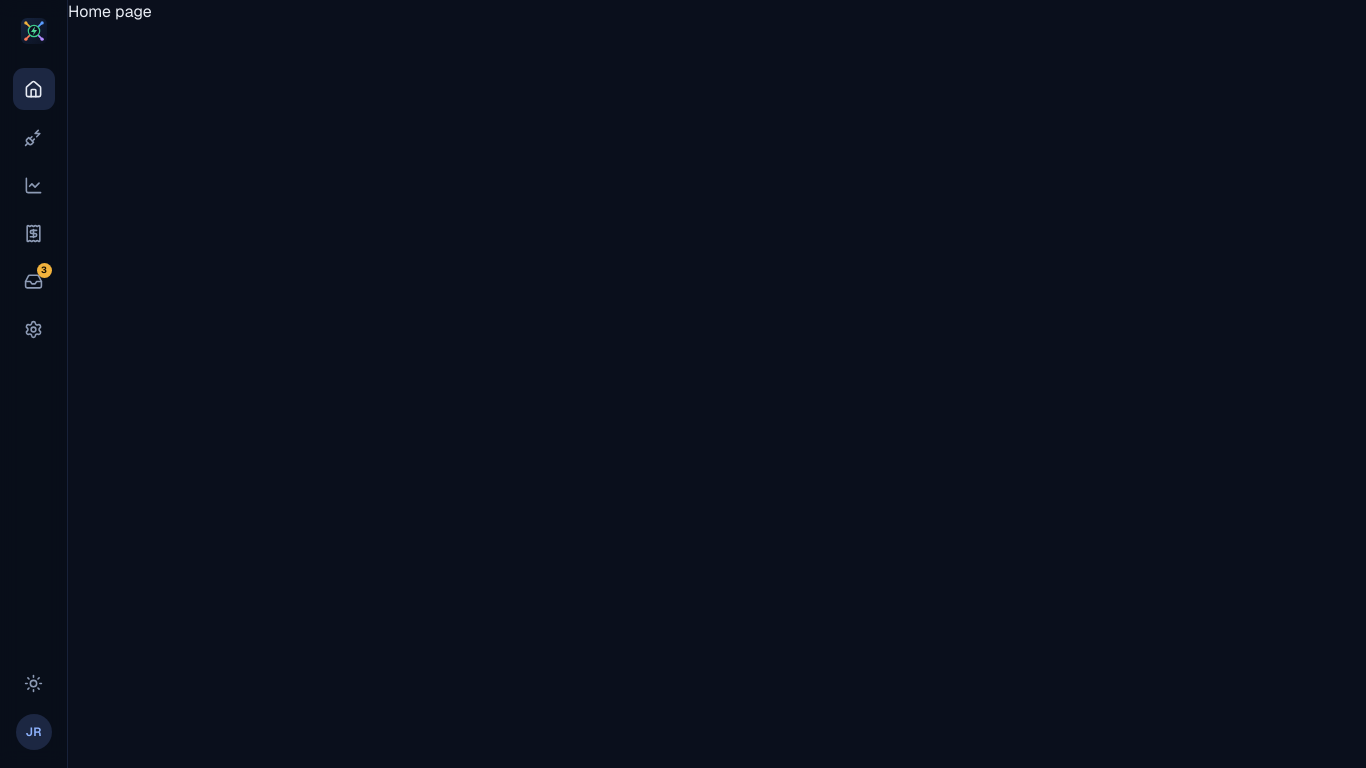
Test: avatar menu › edits the name in Profile
Step 1. Click the button with aria-label "Account: Jamie Reyes, Manager" → {"x": 34, "y": 732}, box 16,714 -> 52,750
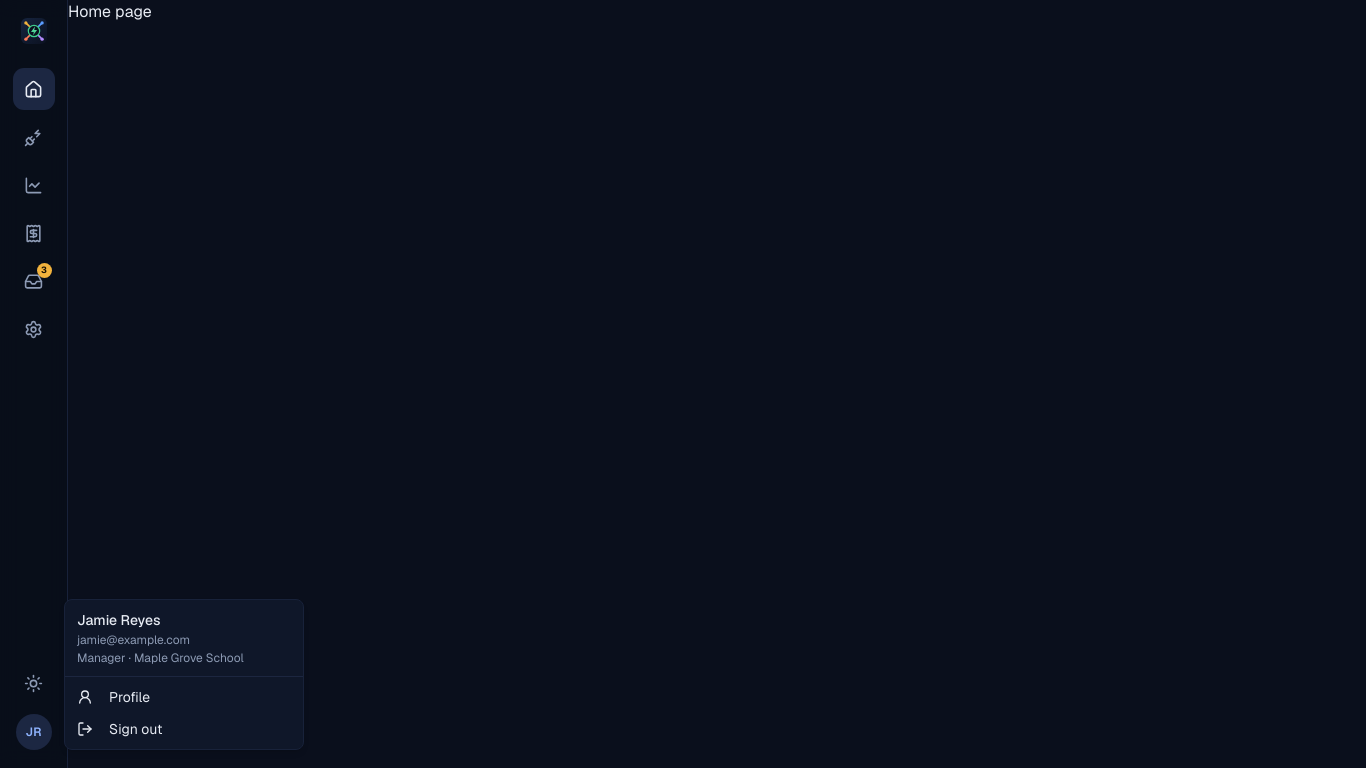
Step 2. Click the menu item "Profile" → {"x": 114, "y": 697}, box 77,688 -> 150,706
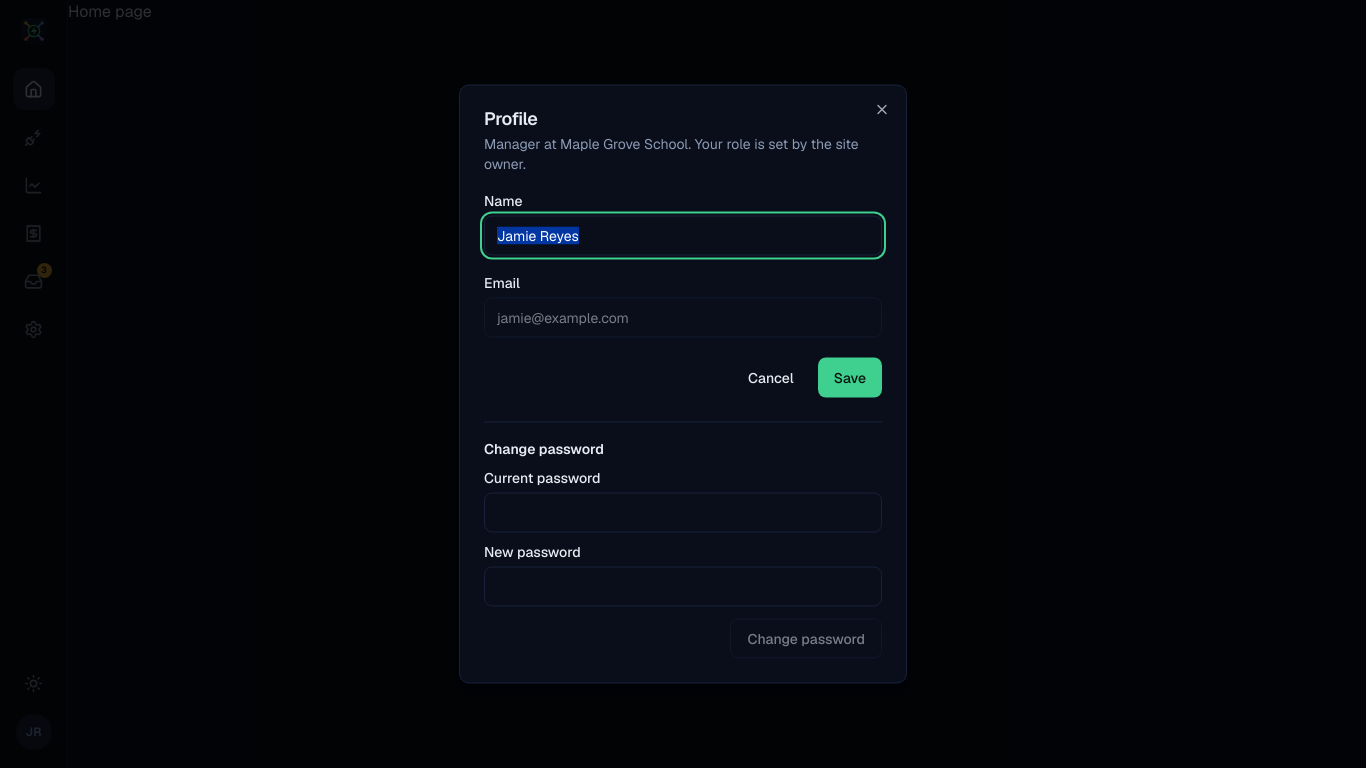
expect the text "Manager at Maple Grove School. Your role is set by the site owner." is shown: met, box 484,134 -> 882,174
Step 3. Replace the text in the field labelled "Name" with "Jamie R." → {"x": 683, "y": 236}, box 484,216 -> 882,256
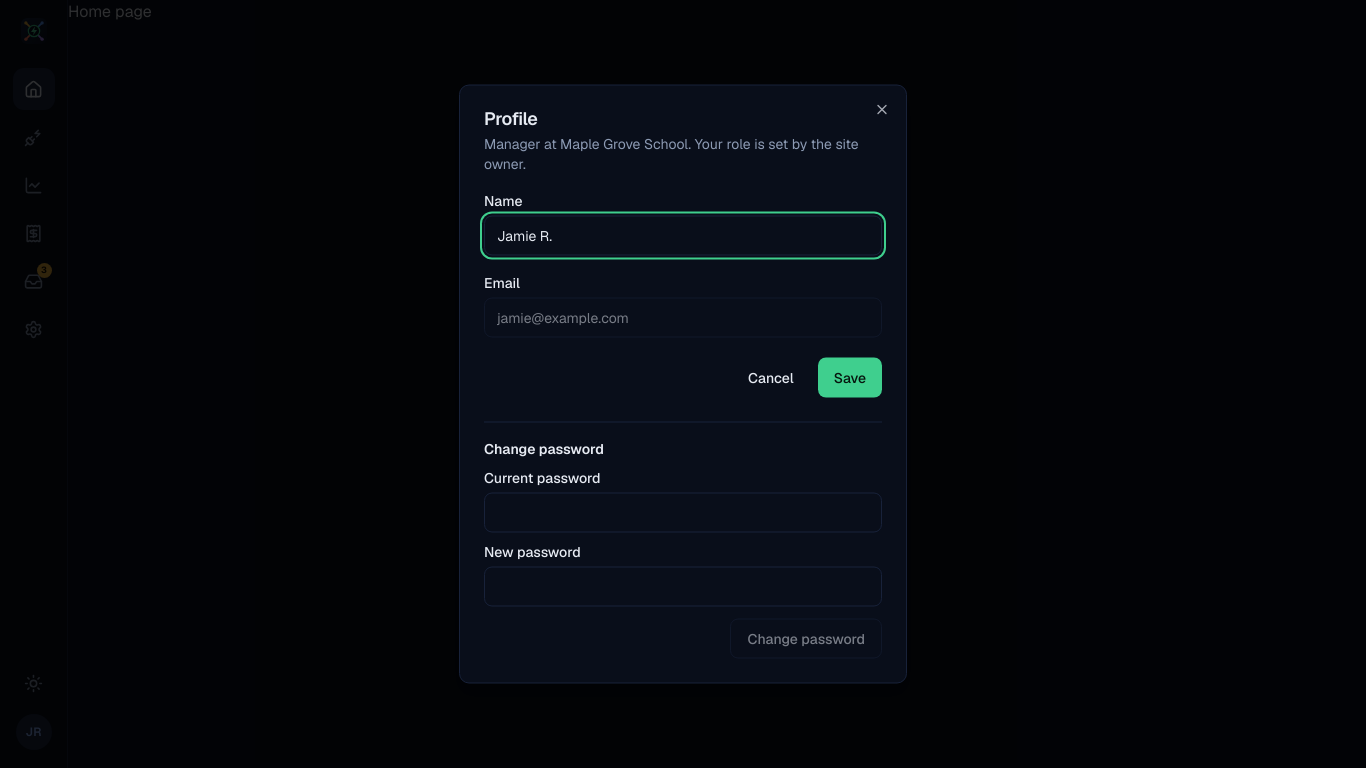
Step 4. Click the button "Save" → {"x": 850, "y": 378}, box 818,358 -> 882,398
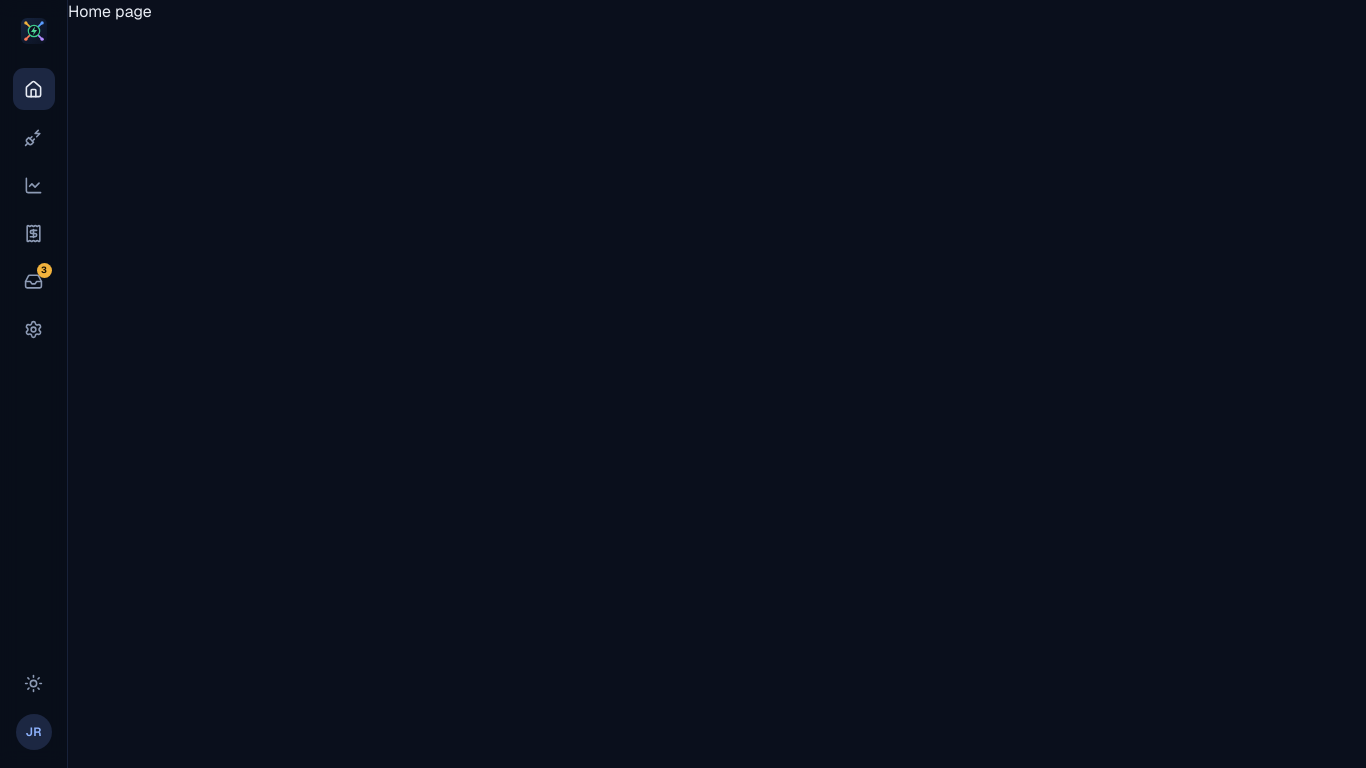
expect the button with aria-label "Account: Jamie R., Manager" reads "JR": met, box 16,714 -> 52,750
expect the dialog is gone: met
